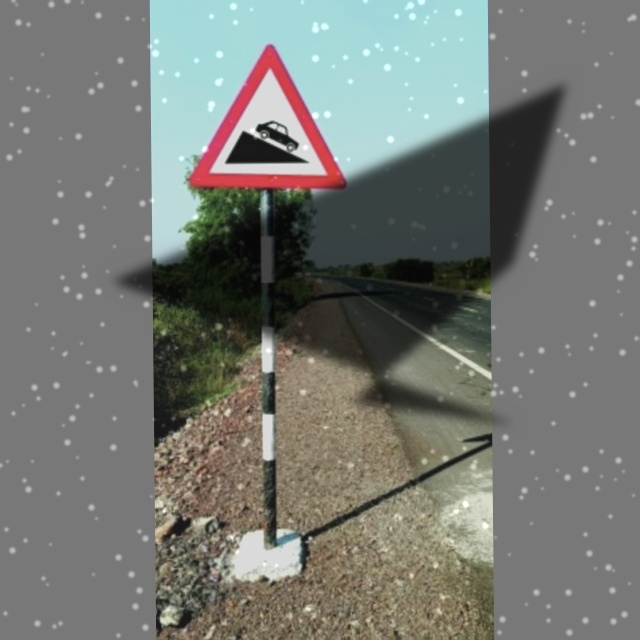Steep_Descent: (193, 46, 345, 197)
